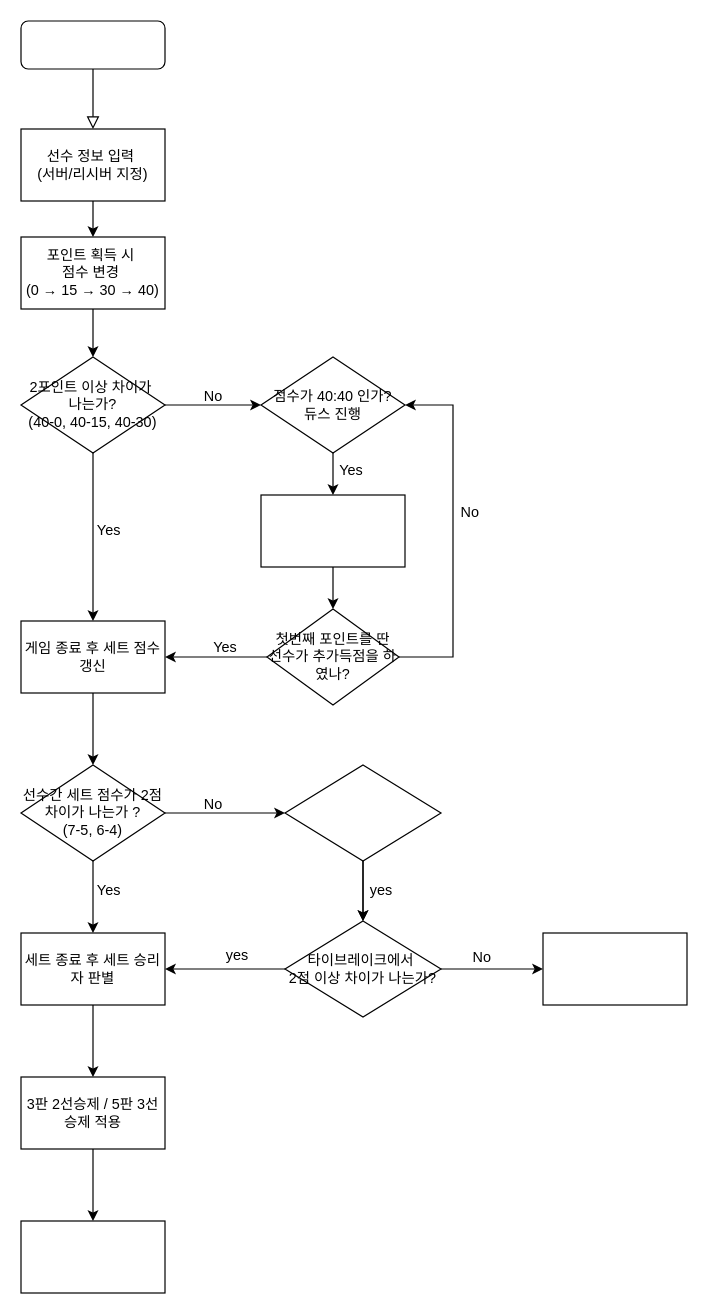
Image size: 708x1314. Some labels were removed from this diagram. Each missing label, with the centre of its shape:
"2점 차이가 날때까지 타이브레이크 진행" belongs at [614,968].
"6-6 동점 인가?" belongs at [362,812].
"경기 종료 후 우승자 및 점수 확인 메시지 출력" belongs at [92,1256].
"경기모드 선택 (3경기 / 5경기)" belongs at [92,44].
"첫번째 포인트를 딴 선수가 어드벤티지를 획득" belongs at [332,530].
